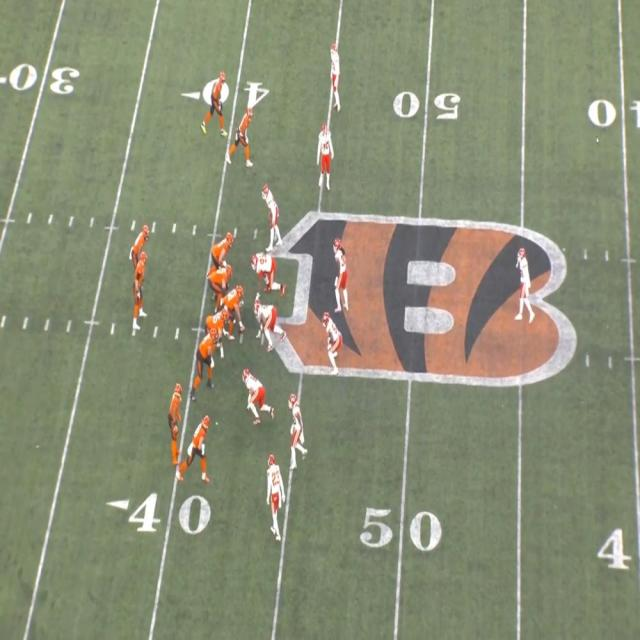center: (226, 287, 250, 331)
db: (264, 454, 284, 525), (514, 248, 533, 314), (316, 126, 334, 186), (326, 48, 340, 109)
lb: (288, 393, 306, 459), (332, 242, 348, 312), (321, 312, 341, 366)
qb: (129, 258, 149, 326)
skill: (183, 414, 213, 480), (202, 74, 231, 128), (232, 110, 254, 162), (166, 384, 185, 442), (130, 225, 148, 262)
